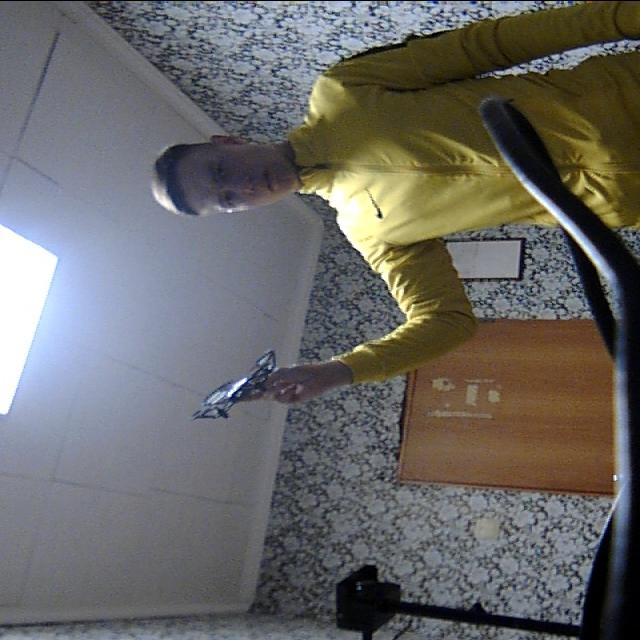drone: (183, 326, 300, 428)
